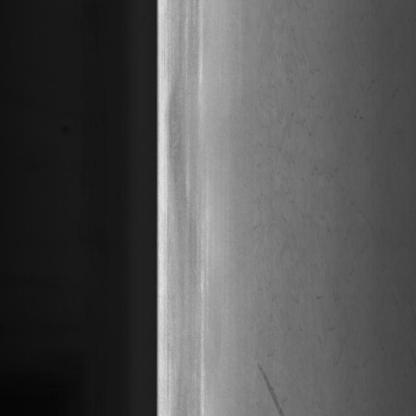silk_spot: (241, 22, 378, 330)
water_spot: (252, 356, 295, 416)
